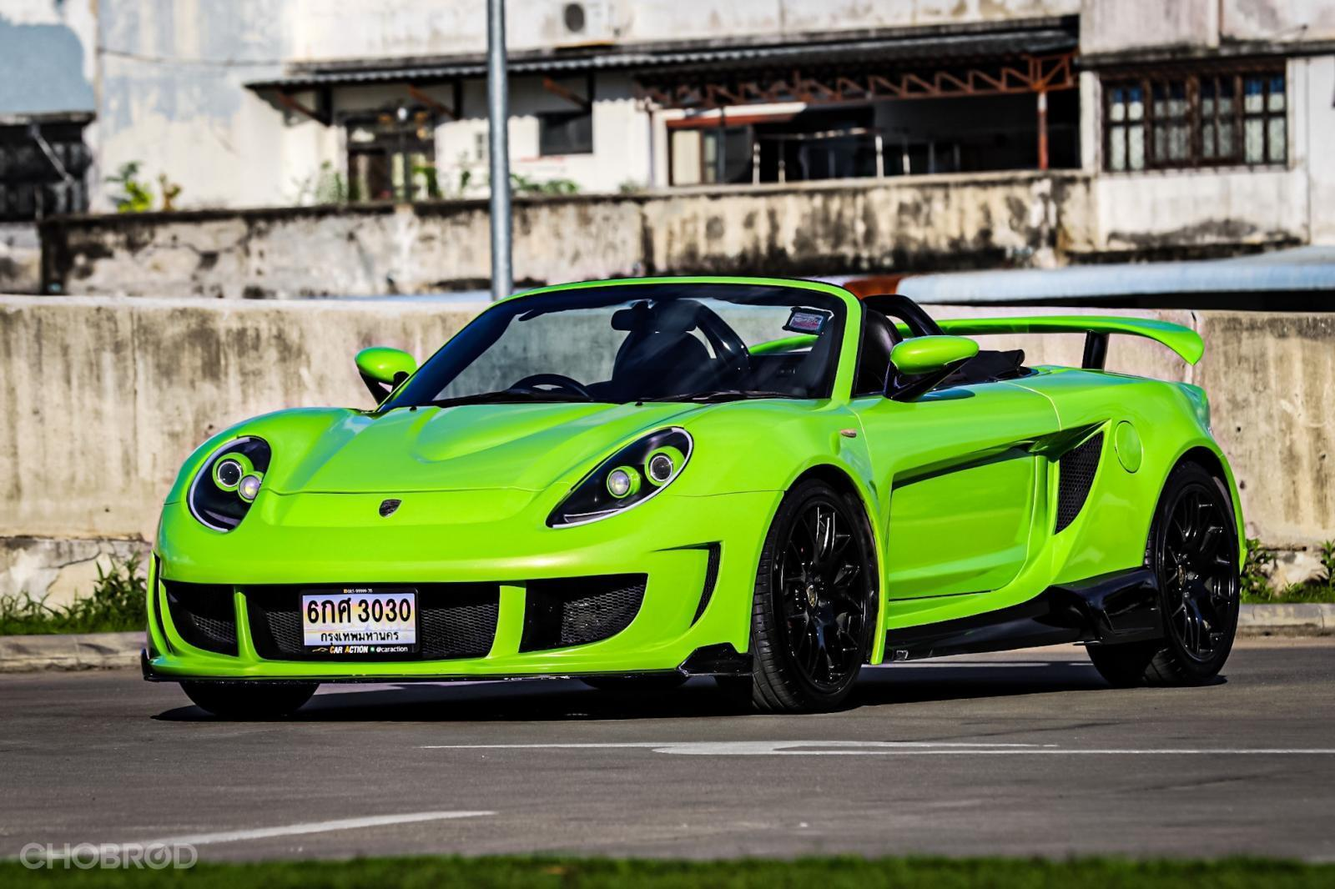license-plate: (292, 583, 421, 659)
